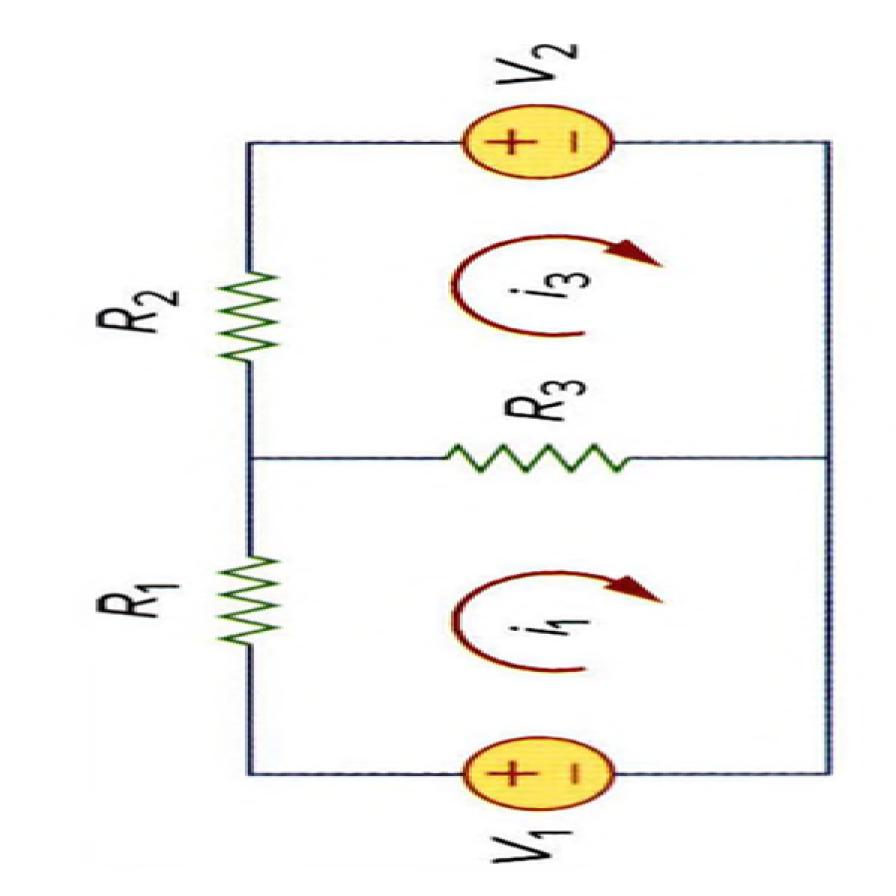V4: (457, 99, 627, 187), (452, 728, 618, 818)
